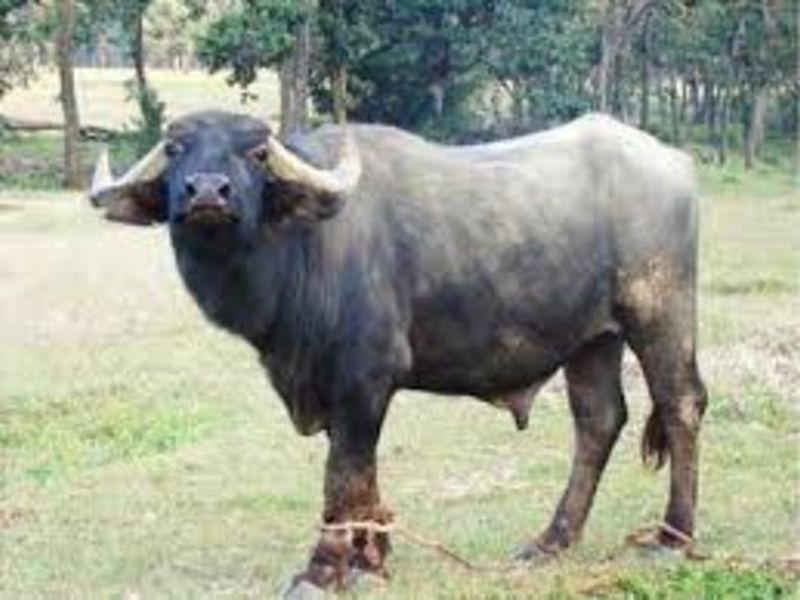buffalo: (85, 85, 748, 599)
